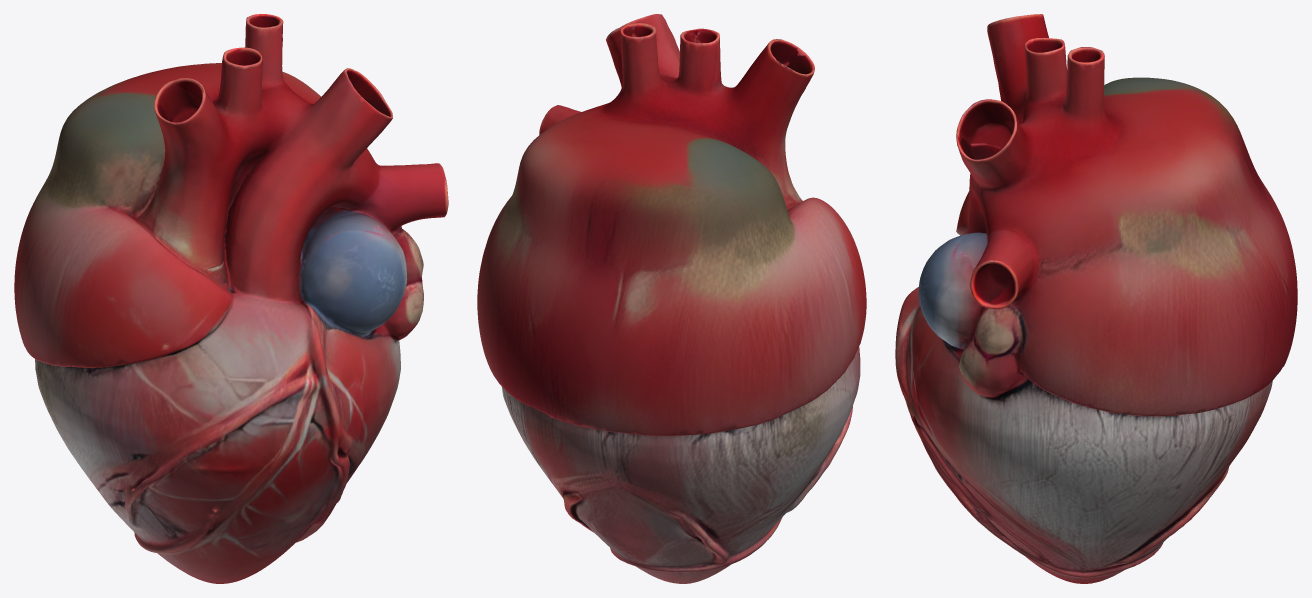
File: vet_v2_path_hcm-heart.glb
3 views of the same model, side by side, from view 1: azimuth 30°, elevation 25°; view 2: azimuth 150°, elevation 25°; view 3: azimuth 270°, elevation 25° (orthographic).
Visible parts, largest first — view 1: model; view 2: model; view 3: model.
Boxes of the visible parts, x1,y1,x2,y2 form: model: (14, 14, 448, 583); model: (477, 14, 866, 583); model: (895, 14, 1297, 583).
Size of the model in its own units: 1.28 by 1.9 by 1.27.
1 material, 1 textured.
